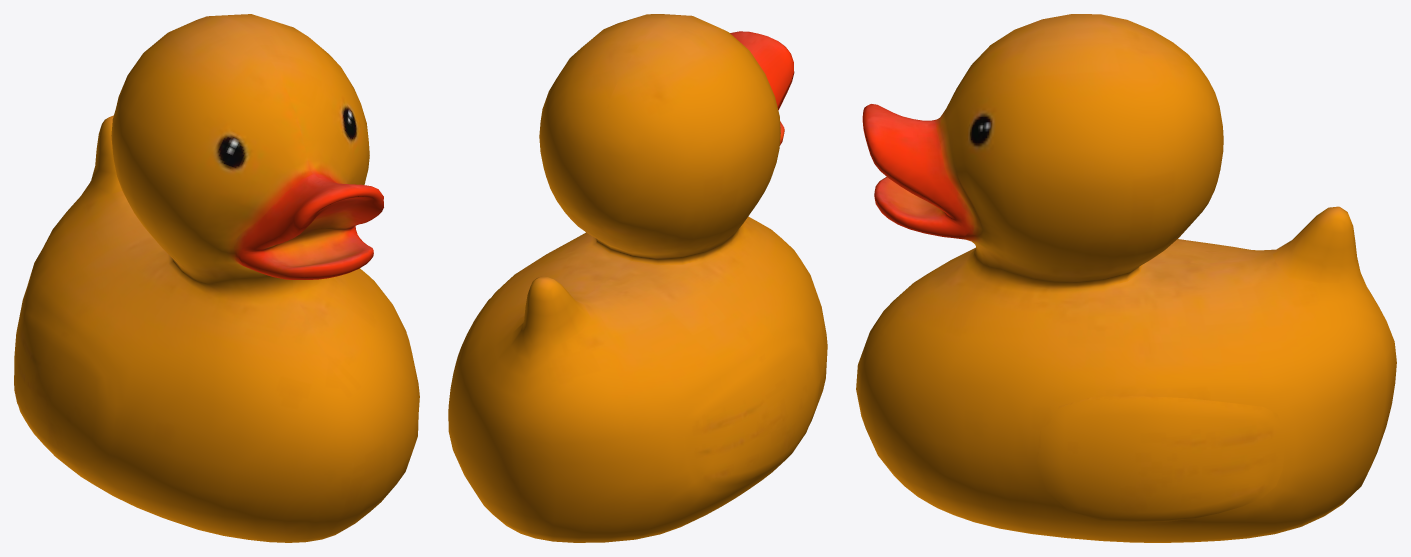
The model's file is rubber_duck_toy.glb.
3 renders of one model, left to right at view 1: azimuth 30°, elevation 25°; view 2: azimuth 150°, elevation 25°; view 3: azimuth 270°, elevation 25°, orthographic. The views are drawn at different scales.
Visible parts, largest first — view 1: rubber_duck_toy; view 2: rubber_duck_toy; view 3: rubber_duck_toy.
Part boxes in pixels (left/top/right/bottom): rubber_duck_toy: left=14, top=14, right=419, bottom=542; rubber_duck_toy: left=448, top=14, right=827, bottom=542; rubber_duck_toy: left=856, top=14, right=1396, bottom=542.
Bounding box in the file's own units: 0.2135 × 0.2855 × 0.3.
Materials: 1 (1 with a texture image).
